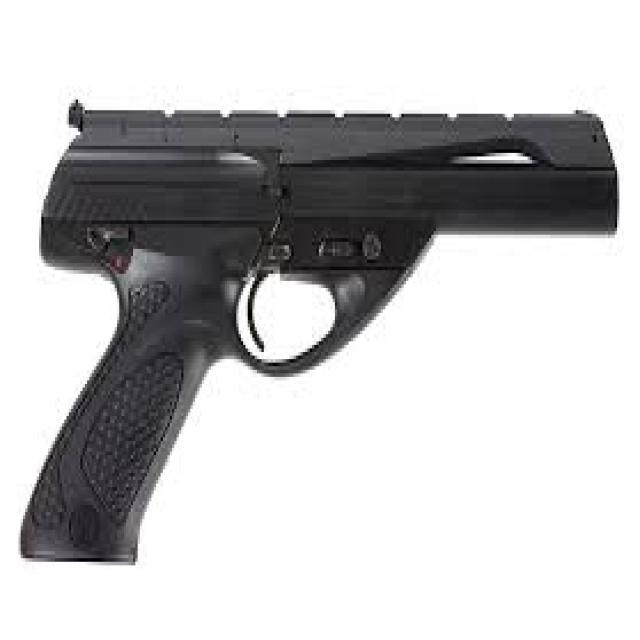pistol: (10, 95, 626, 583)
